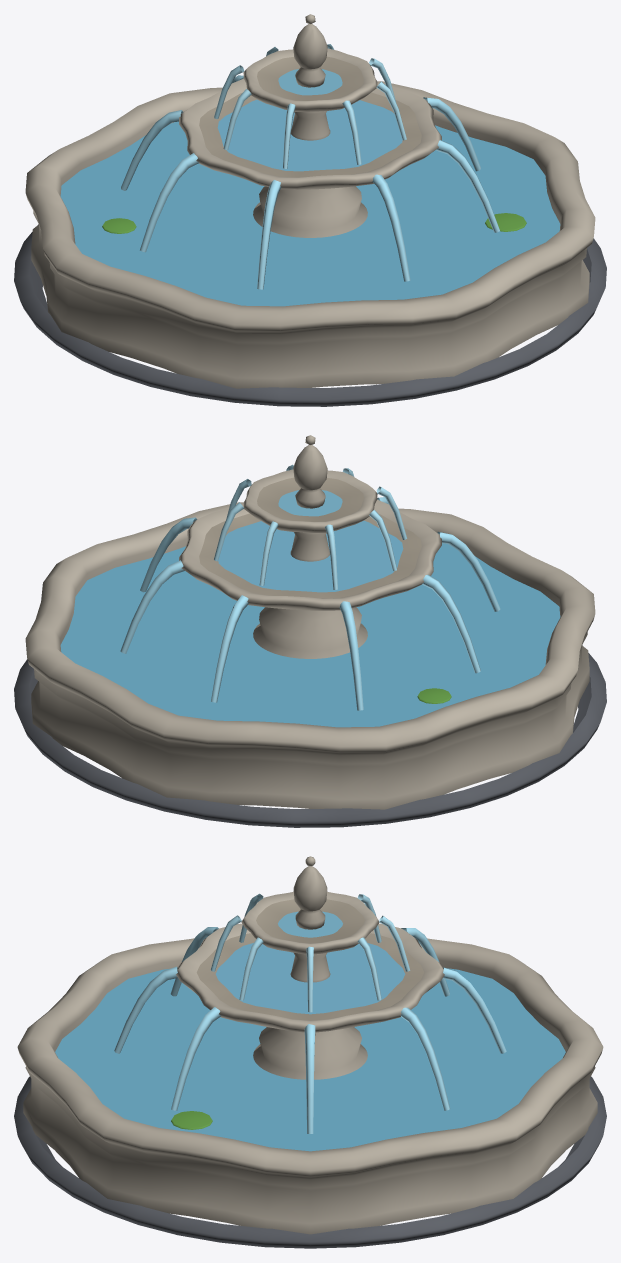
The model's file is fountain.glb.
3 renders of one model, top to bottom at view 1: azimuth 30°, elevation 25°; view 2: azimuth 150°, elevation 25°; view 3: azimuth 270°, elevation 25°, orthographic.
Visible parts, largest first — view 1: fountain_stone, fountain_water; view 2: fountain_stone, fountain_water; view 3: fountain_stone, fountain_water.
Boxes of the visible parts, box(x1,y1,x2,y2) form: fountain_stone: box(14, 14, 606, 406); fountain_water: box(60, 44, 560, 306); fountain_stone: box(14, 435, 606, 827); fountain_water: box(60, 464, 560, 727); fountain_stone: box(14, 856, 606, 1248); fountain_water: box(55, 893, 565, 1151).
Size of the model in its own units: 3.1 by 1.55 by 3.1.
